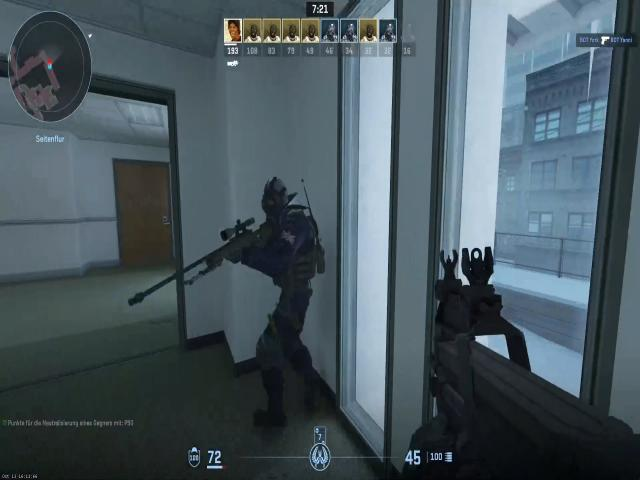CT-Head: (258, 172, 293, 220)
